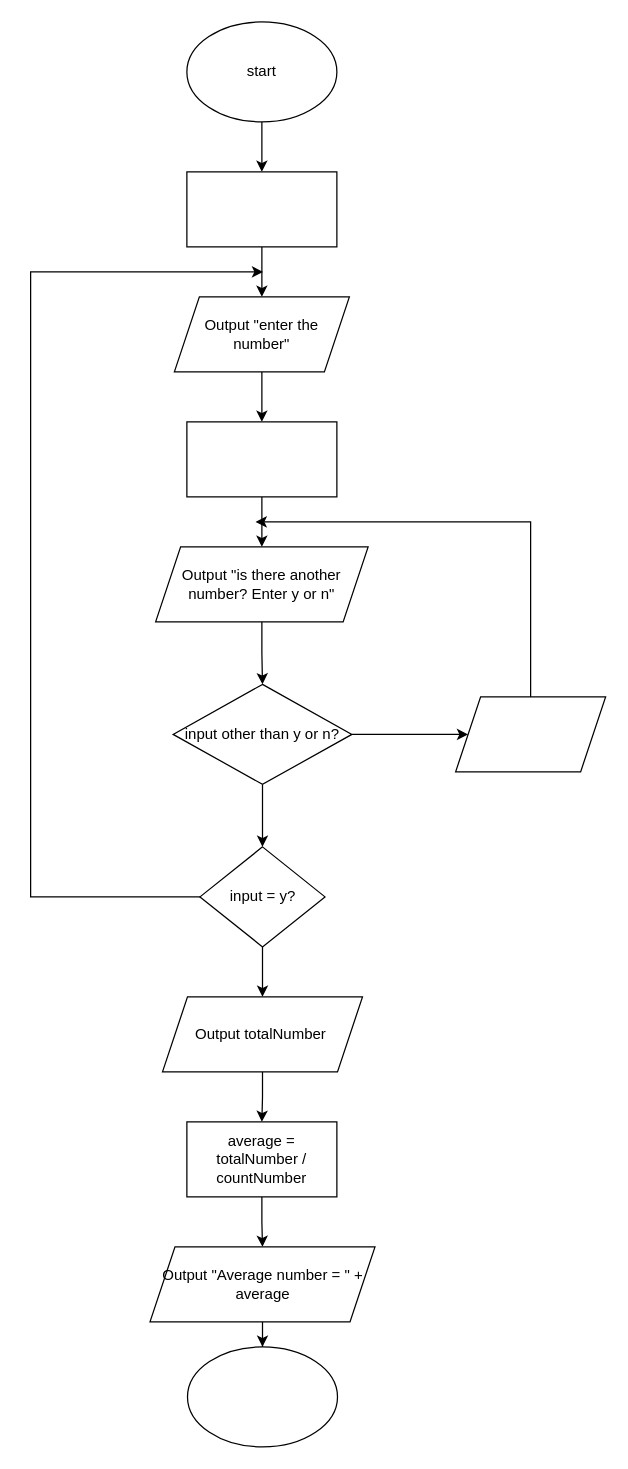
Image size: 628x1469. Some labels were removed from this diagram. Here are the shapes that lost their labels. From the top down, the centre of each, then its label:
point 261,209: totalNumber = 0 countNumber = 0
point 261,459: totalNumber = + input number countNumber ++
point 530,734: Output "Wrong Sentinel Code"
point 262,1396: end
